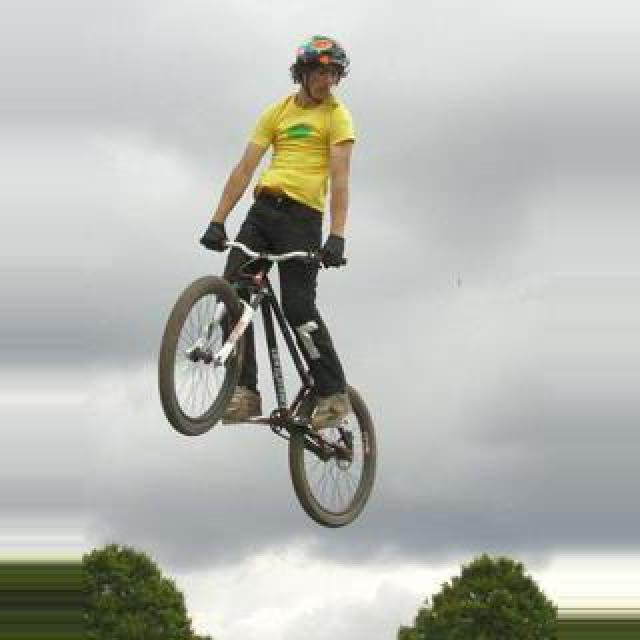MC-Bike: (198, 30, 360, 448)
Person: (159, 234, 375, 530)
